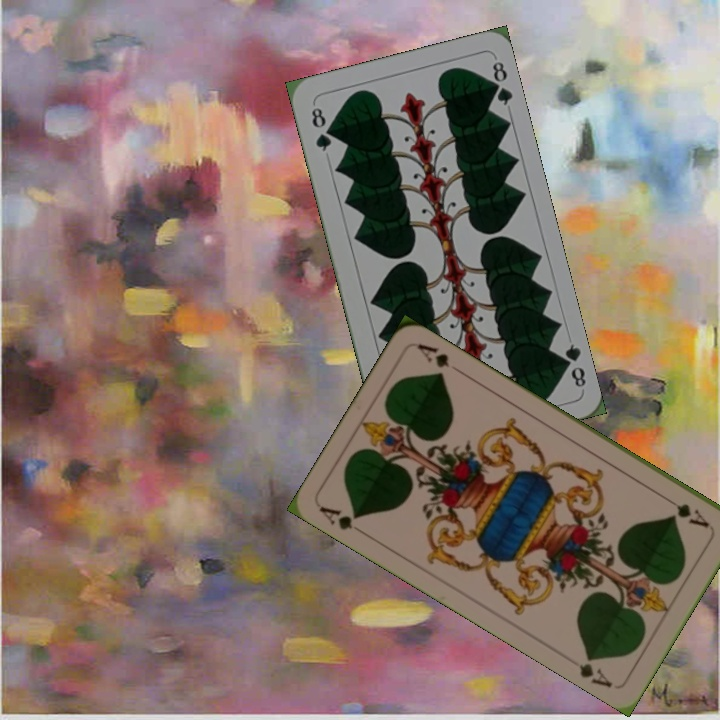G8: (555, 340, 589, 390), (307, 103, 335, 154)
GA: (662, 493, 712, 530), (315, 502, 362, 533)
